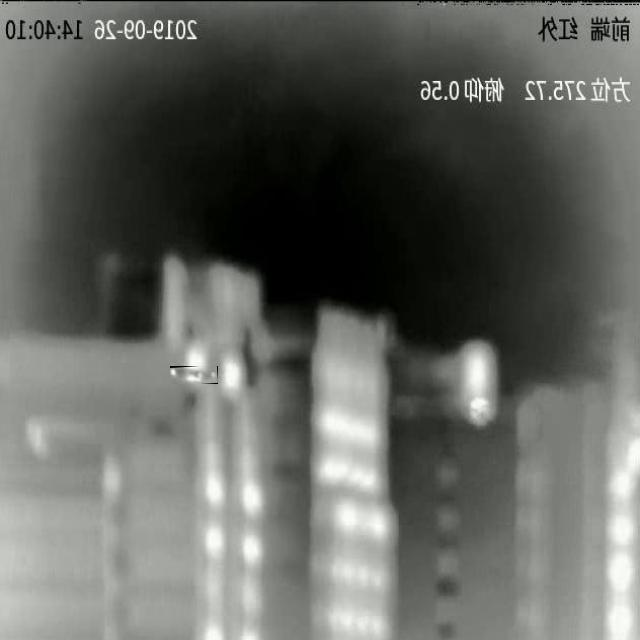drone: (170, 368, 217, 384)
